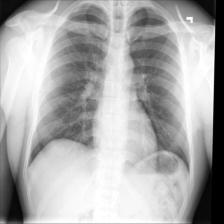normal: (22, 2, 196, 177)
